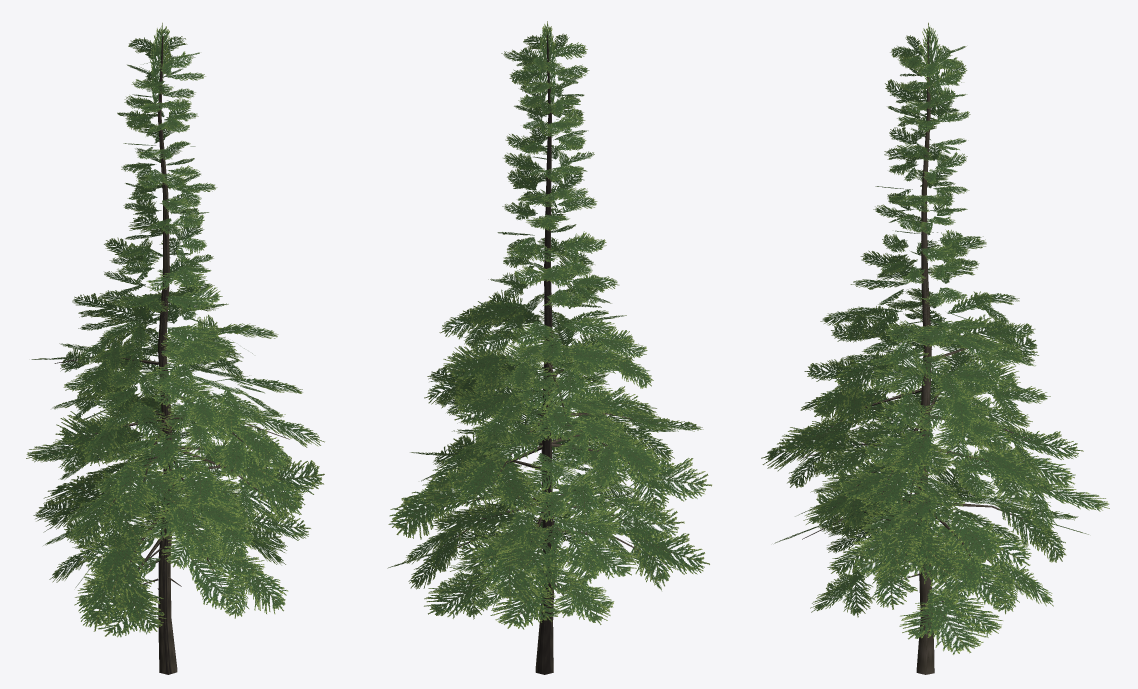
File: near.glb
3 views of the same model, side by side, from view 1: azimuth 30°, elevation 25°; view 2: azimuth 150°, elevation 25°; view 3: azimuth 270°, elevation 25° (orthographic).
Visible parts, largest first — view 1: spruce_03; view 2: spruce_03; view 3: spruce_03.
Boxes of the visible parts, x1,y1,x2,y2 form: spruce_03: (26,22,324,674); spruce_03: (387,21,711,674); spruce_03: (761,22,1109,674).
Size of the model in its own units: 6.63 by 13.97 by 7.31.
2 materials, 2 textured.
